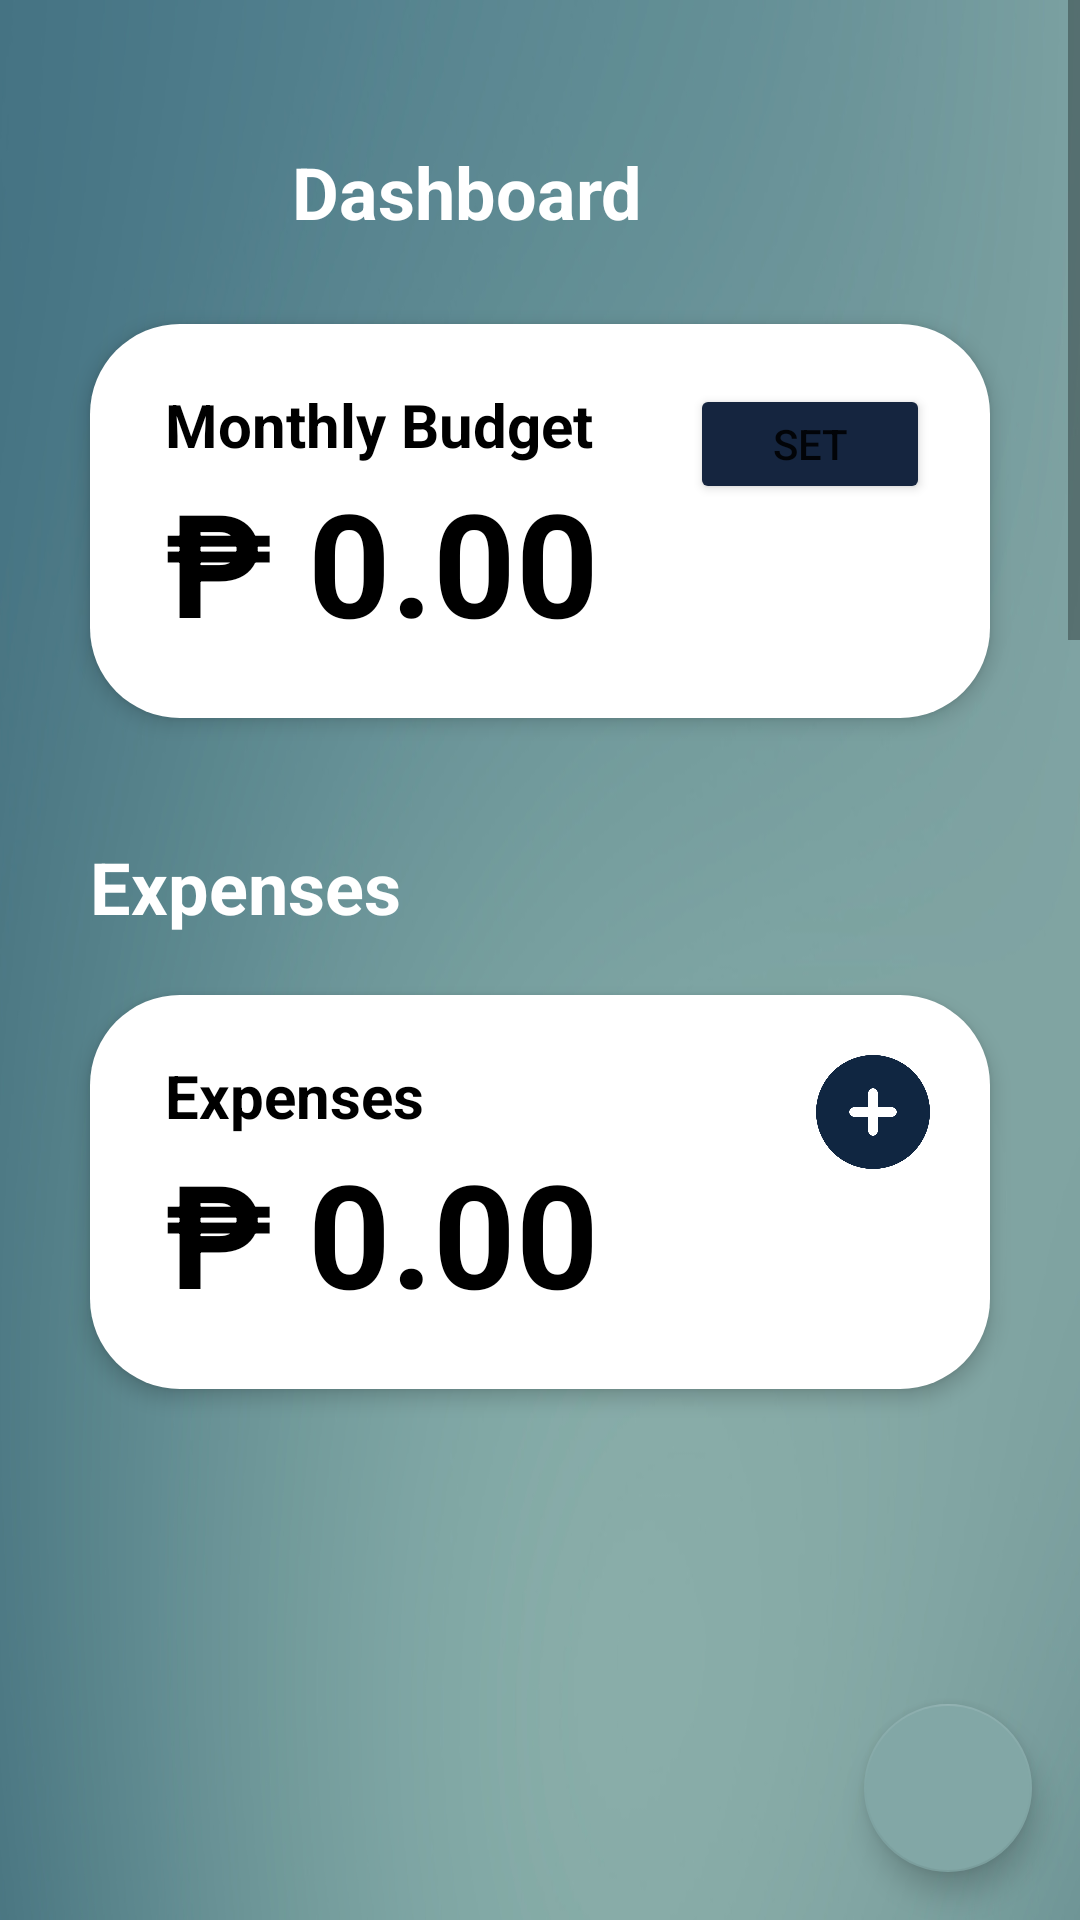

Icon bounding boxes for this 1080*1920 phone screenshot, format (x1, y1, x2, y2):
addbutton: (816, 1055, 930, 1169)
